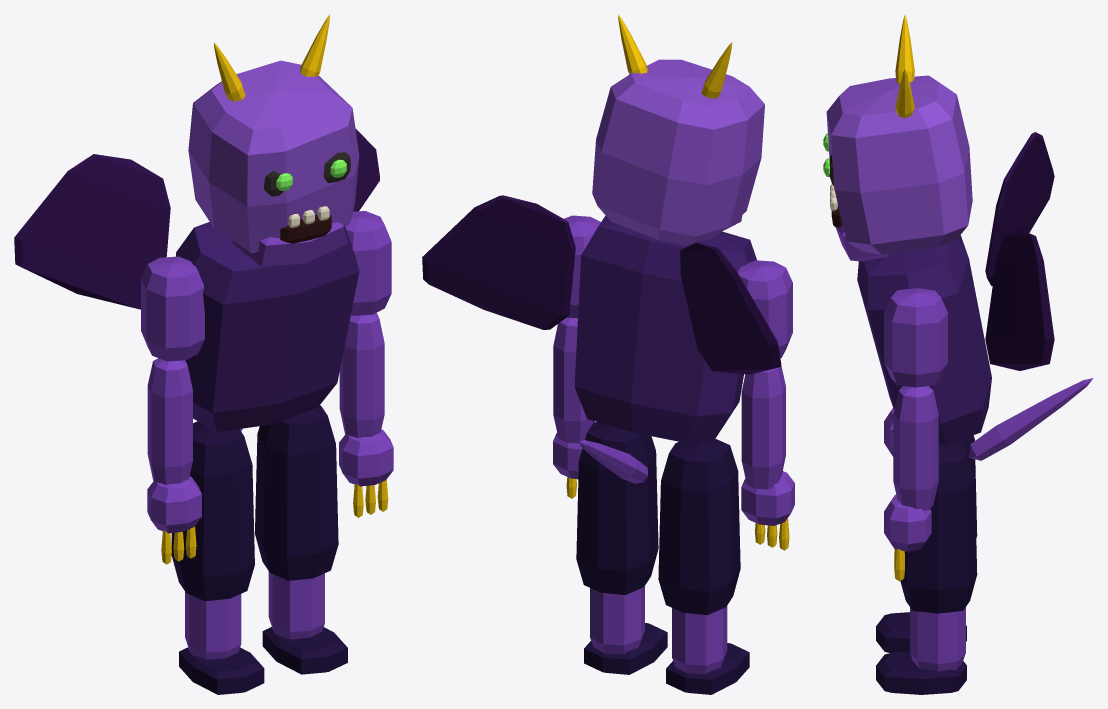
The model's file is mon-demon-2.glb.
The picture shows the model from 3 angles, left to right: view 1: azimuth 30°, elevation 25°; view 2: azimuth 150°, elevation 25°; view 3: azimuth 270°, elevation 25°; orthographic projection. The views are drawn at different scales.
Parts seen in each view (by area): view 1: torso, head, leg-left, leg-right, arm-right, arm-left; view 2: torso, head, leg-right, leg-left, arm-right, arm-left; view 3: torso, head, leg-left, arm-left, leg-right.
Part boxes in pixels (<box>): torso: <box>14,129,379,432</box>; head: <box>188,14,359,266</box>; leg-left: <box>255,405,347,674</box>; leg-right: <box>171,421,264,694</box>; arm-right: <box>141,256,204,564</box>; arm-left: <box>339,211,393,517</box>; torso: <box>422,195,781,483</box>; head: <box>592,14,764,245</box>; leg-right: <box>658,439,749,694</box>; leg-left: <box>576,422,667,674</box>; arm-right: <box>737,260,794,550</box>; arm-left: <box>553,215,600,498</box>; torso: <box>857,132,1093,460</box>; head: <box>823,14,972,261</box>; leg-left: <box>876,442,977,694</box>; arm-left: <box>884,288,947,581</box>; leg-right: <box>876,435,977,652</box>.
Size of the model in its own units: 1.48 by 2.52 by 0.9884.
